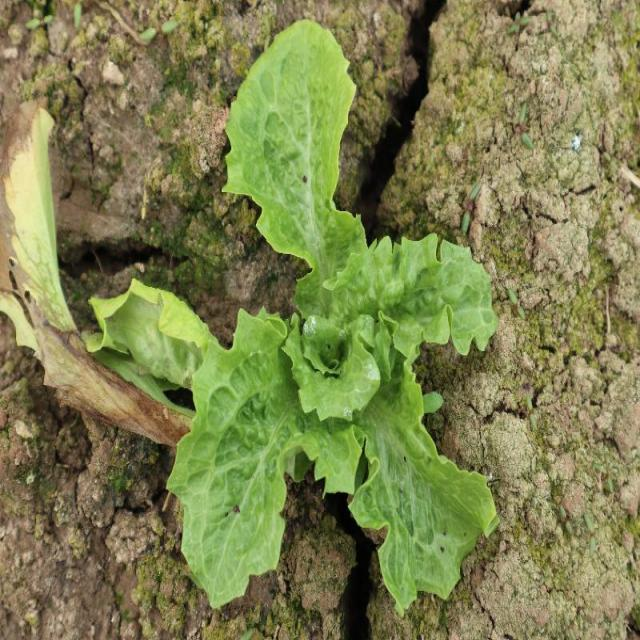crop: (86, 18, 502, 608)
